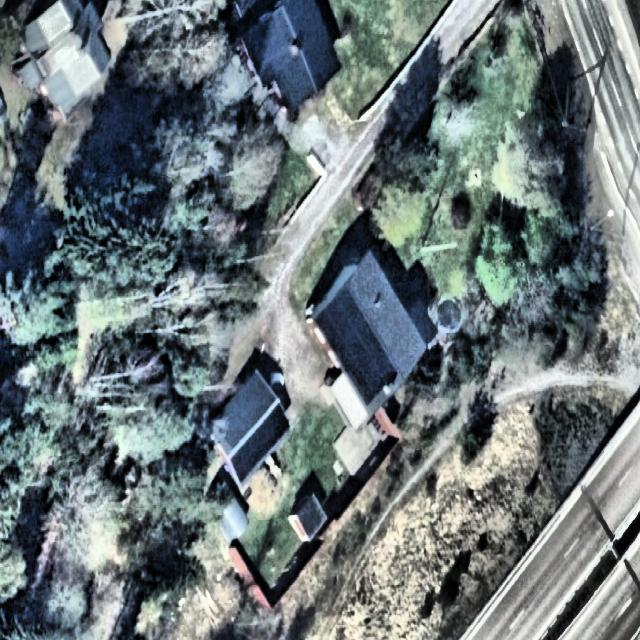roof_pv: (321, 291, 394, 403), (228, 401, 290, 483)
